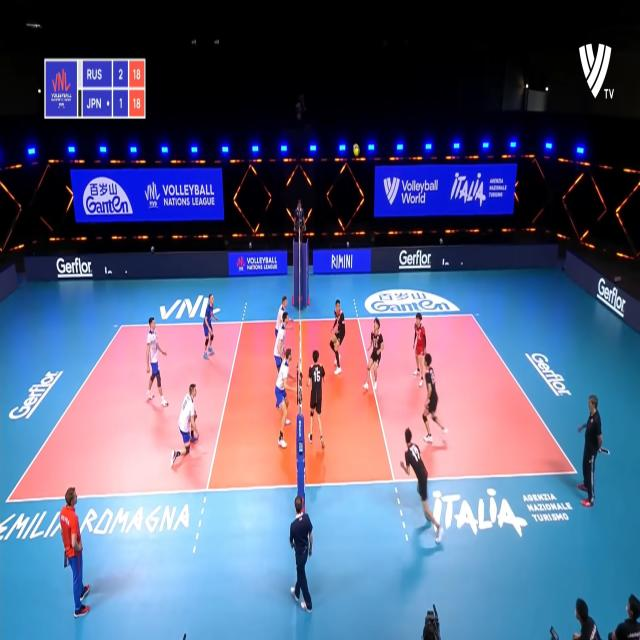player: (402, 424, 446, 544), (169, 383, 200, 466), (422, 350, 447, 443), (277, 344, 296, 454), (144, 318, 166, 410), (307, 348, 327, 448), (363, 316, 383, 395), (331, 298, 347, 376), (275, 312, 293, 380), (414, 314, 430, 386), (204, 292, 217, 360), (274, 294, 290, 342)
